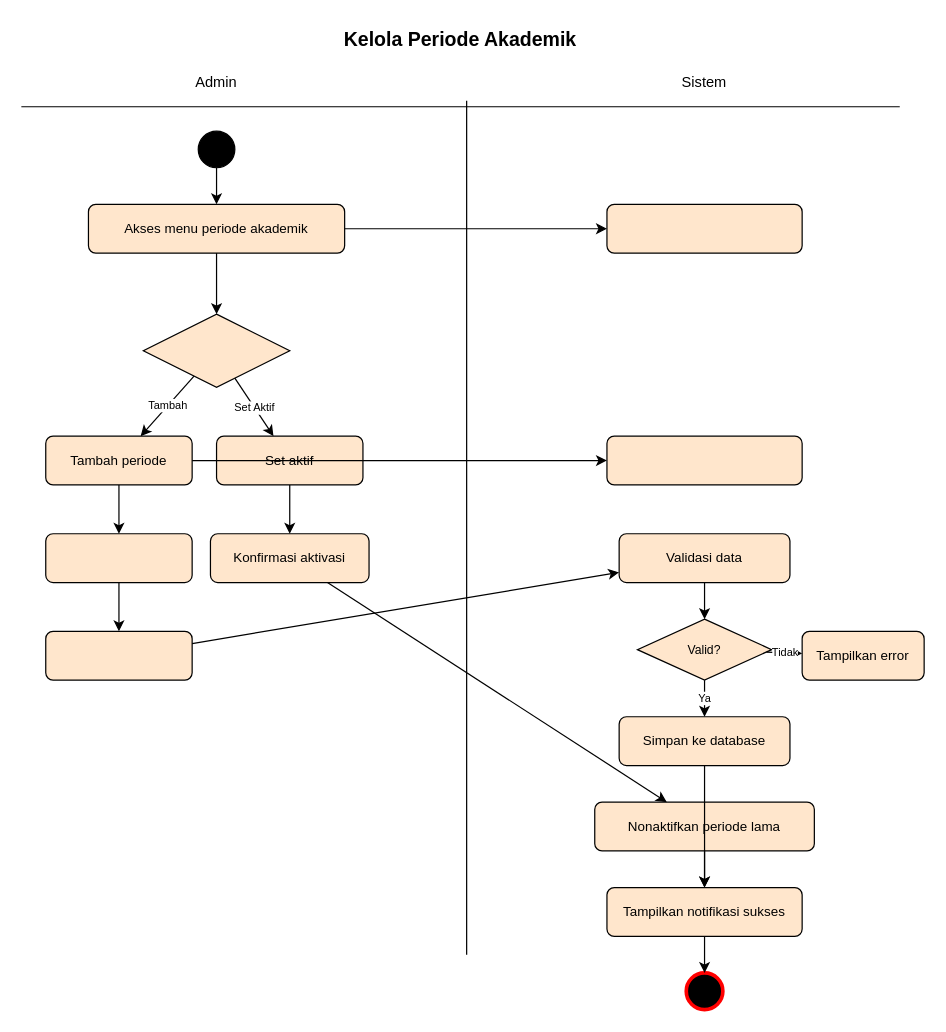
Some shapes in this 946 by 1032 pixel diagram are drawn without their labels. The shapes that lost their labels are listed below. From the top down, each one's centre as x and y in pixels, then its label:
the point at 704,228: Tampilkan daftar periode
the point at 216,350: Pilih aksi
the point at 704,460: Tampilkan form periode
the point at 118,558: Isi data periode
the point at 118,655: Submit
